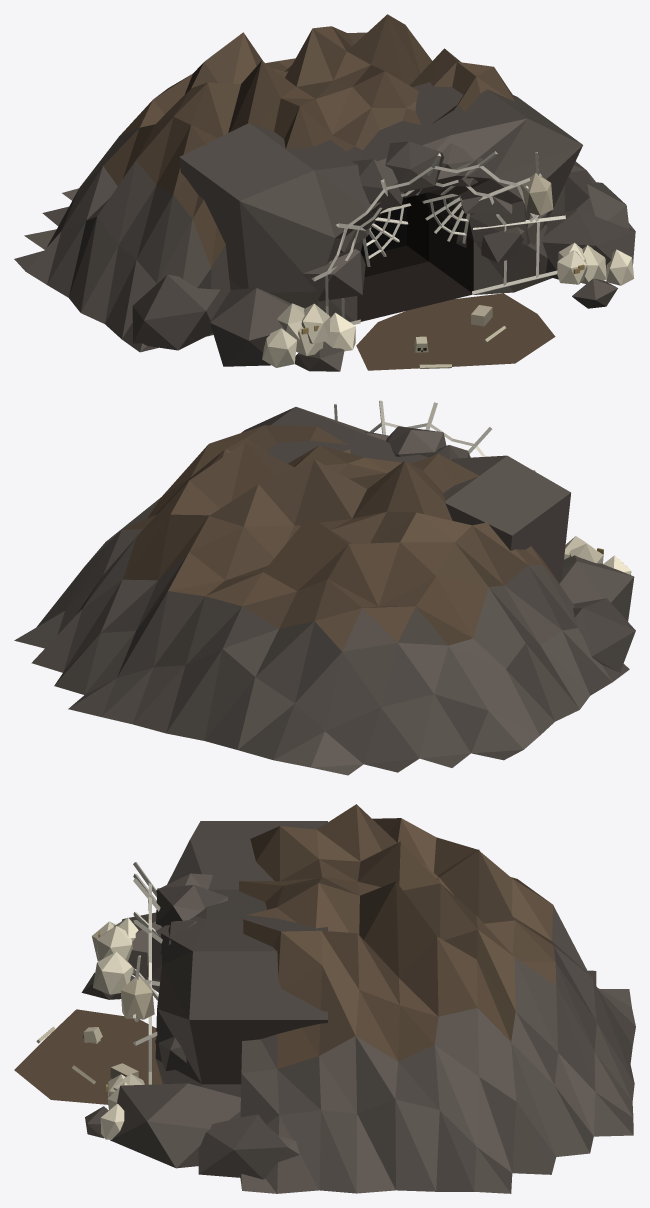
File: spider_nest.glb
The picture shows the model from 3 angles, top to bottom: view 1: azimuth 30°, elevation 25°; view 2: azimuth 150°, elevation 25°; view 3: azimuth 270°, elevation 25°; orthographic projection. The views are drawn at different scales.
Parts seen in each view (by area): view 1: spider_nest; view 2: spider_nest; view 3: spider_nest.
Boxes of the visible parts, <box> form: spider_nest: <box>14,14,635,371</box>; spider_nest: <box>14,400,635,775</box>; spider_nest: <box>14,804,635,1193</box>.
Bounding box in the file's own units: 12.16 × 4.92 × 12.25.
